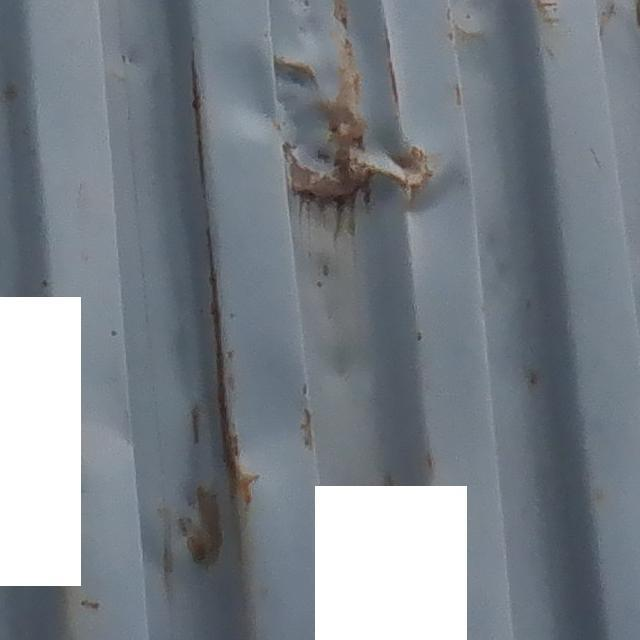dent: (267, 59, 477, 216)
